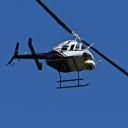helicopter: (7, 1, 128, 95)
